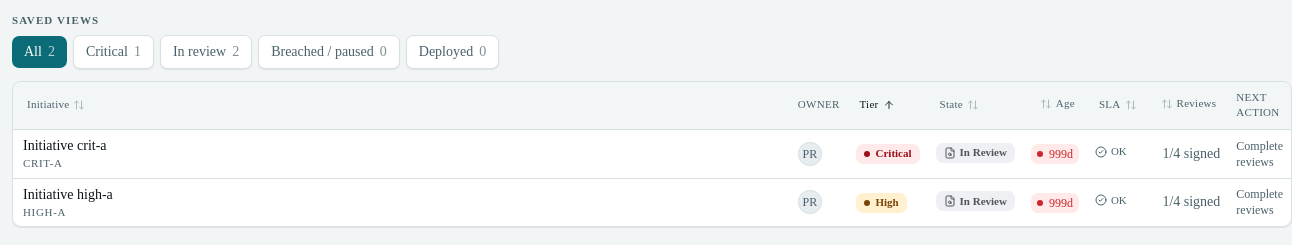
PortfolioView saved views › narrows the table to the tier-critical row set when 'Critical' is selected
The width and height of the screenshot is (1292, 245).
Expected: the number of links "Initiative crit-a" is 2, [23, 138, 107, 153]; [23, 187, 113, 202]
What coordinates should you click on to do the following:
click the tab "Critical1"
I would click on:
 (113, 52)
Its box is [73, 34, 154, 68].
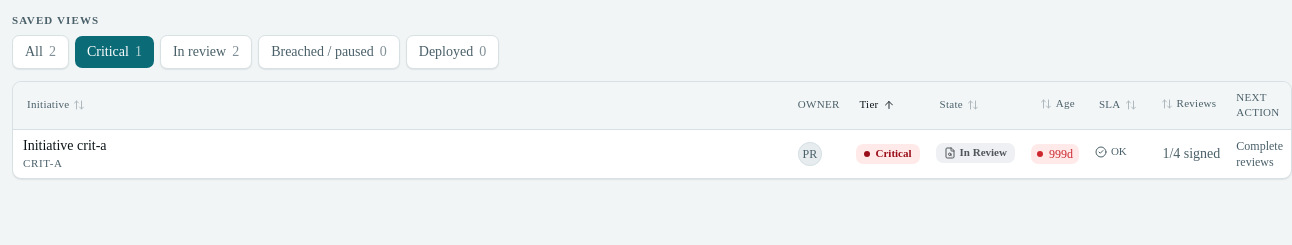
Expected: the link "Initiative crit-a" is shown, [23, 138, 107, 153]
Result: the number of links "Initiative crit-a" is 1 at [23, 138, 107, 153]
